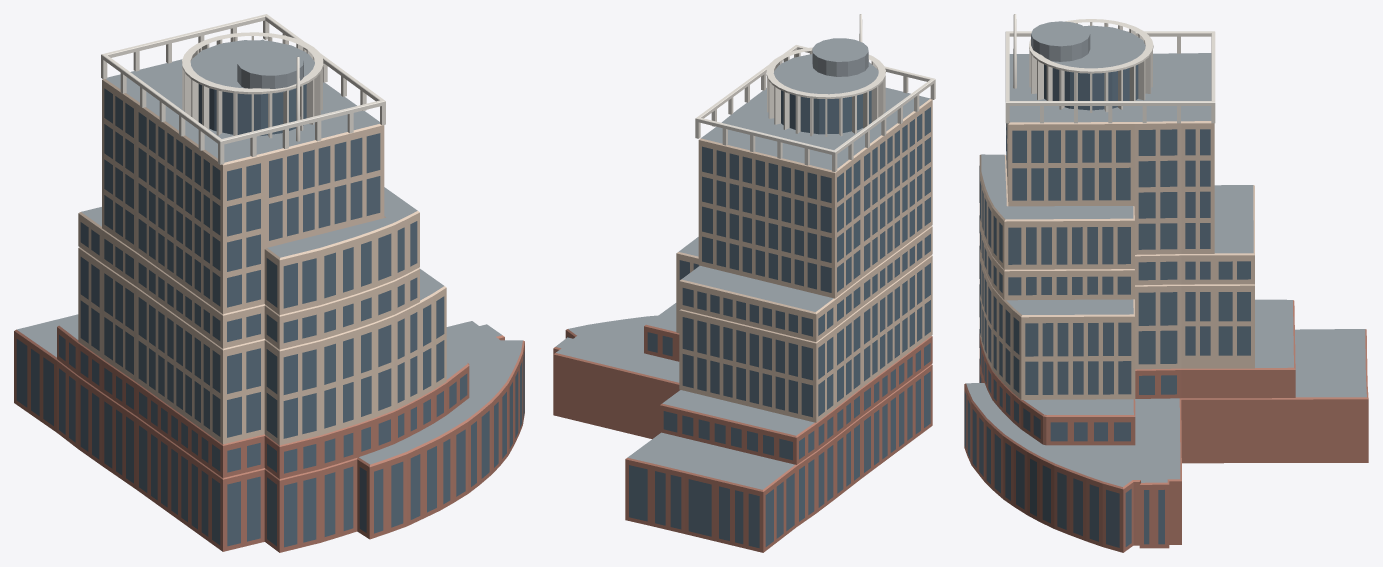
File: phx-city-hall.glb
The picture shows the model from 3 angles, left to right: view 1: azimuth 30°, elevation 25°; view 2: azimuth 150°, elevation 25°; view 3: azimuth 270°, elevation 25°; orthographic projection. The views are drawn at different scales.
Visible parts, largest first — view 1: Phoenix City Hall; view 2: Phoenix City Hall; view 3: Phoenix City Hall.
Part boxes in pixels (x1=…): Phoenix City Hall: x1=14, y1=14, x2=524, y2=552; Phoenix City Hall: x1=553, y1=14, x2=935, y2=552; Phoenix City Hall: x1=964, y1=14, x2=1368, y2=552.
Size of the model in its own units: 85.6 by 104 by 91.47.
